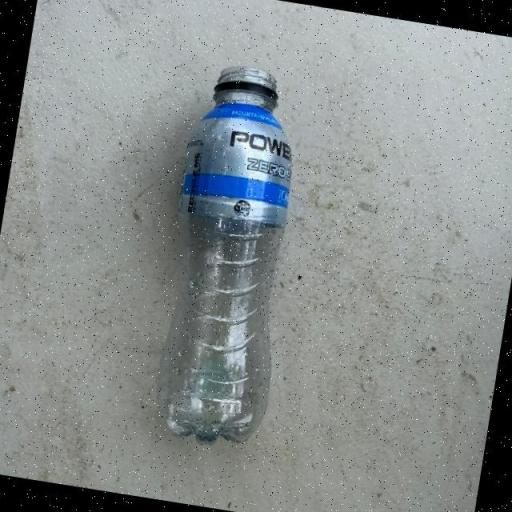plastic: (140, 57, 320, 452)
